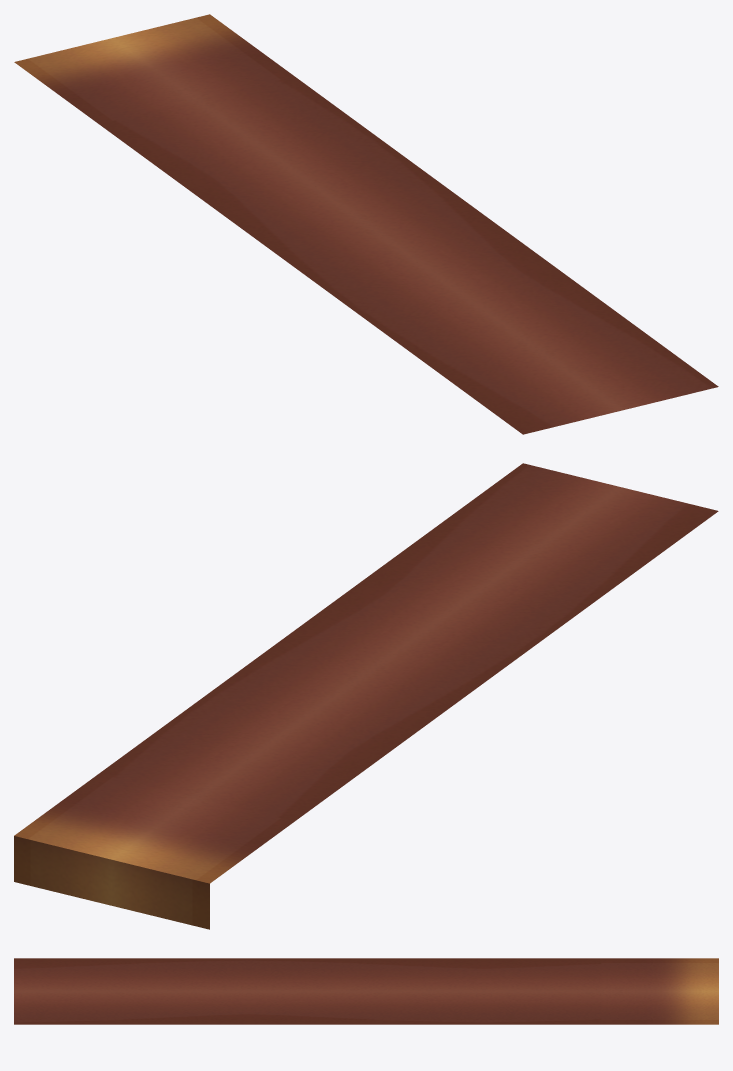
The model's file is 1.100_SanFrancisco_ground_shadow_short_start.glb.
3 renders of one model, top to bottom at view 1: azimuth 30°, elevation 25°; view 2: azimuth 150°, elevation 25°; view 3: azimuth 270°, elevation 25°, orthographic. The views are drawn at different scales.
Parts seen in each view (by area): view 1: 1.100_SanFrancisco_ground_shadow_short_start; view 2: 1.100_SanFrancisco_ground_shadow_short_start; view 3: 1.100_SanFrancisco_ground_shadow_short_start.
Boxes of the visible parts, x1,y1,x2,y2 form: 1.100_SanFrancisco_ground_shadow_short_start: (14,14,718,434); 1.100_SanFrancisco_ground_shadow_short_start: (14,463,718,929); 1.100_SanFrancisco_ground_shadow_short_start: (14,958,718,1024).
Bounding box in the file's own units: 20 × 4.5 × 90.
1 material, 1 textured.
